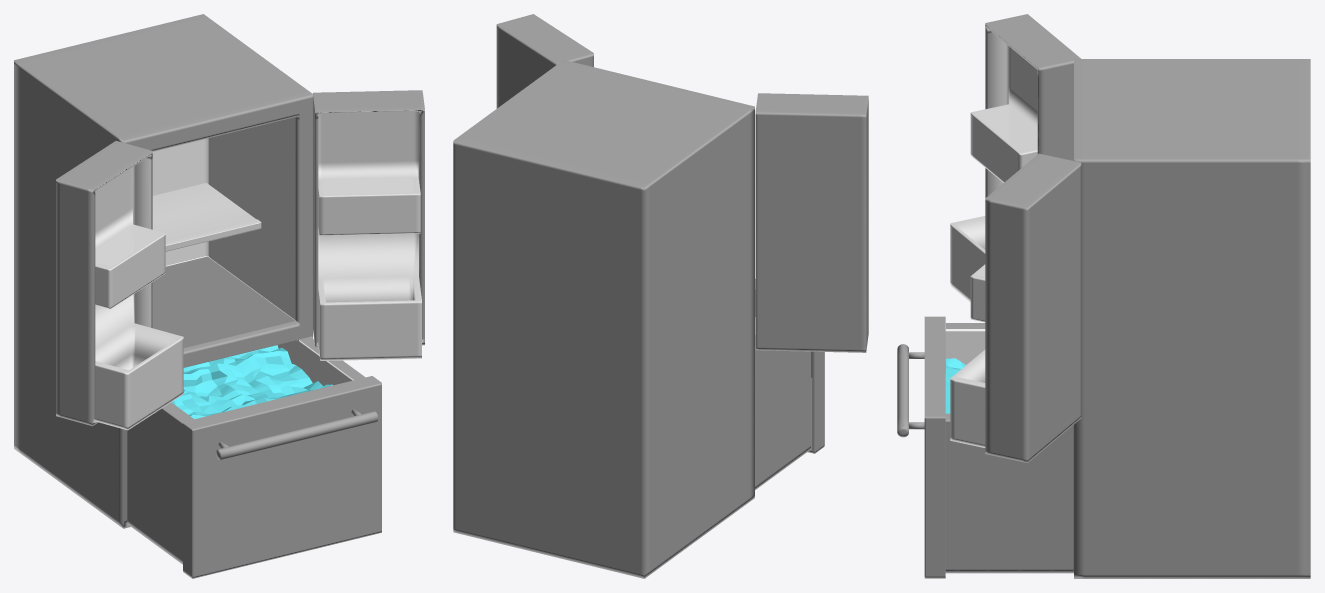
The model's file is FridgeStage.fbx.
The picture shows the model from 3 angles, left to right: view 1: azimuth 30°, elevation 25°; view 2: azimuth 150°, elevation 25°; view 3: azimuth 270°, elevation 25°; orthographic projection. The views are drawn at different scales.
Parts seen in each view (by area): view 1: Cube; view 2: Cube; view 3: Cube.
Boxes of the visible parts, <box> form: Cube: <box>14,14,424,578</box>; Cube: <box>453,14,868,578</box>; Cube: <box>897,14,1310,578</box>.
Bounding box in the file's own units: 1931 × 1955 × 1744.
